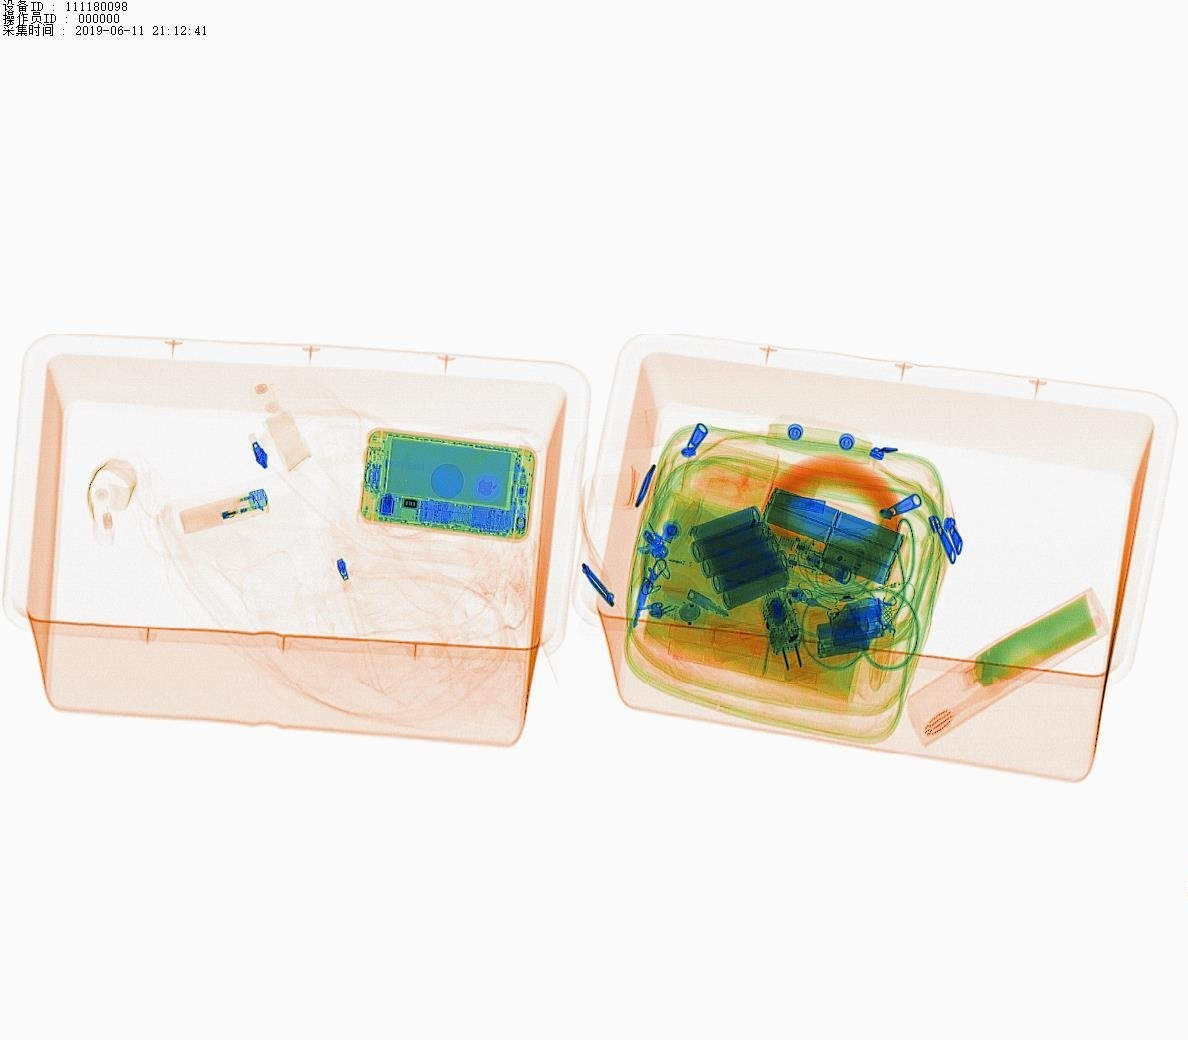NonmetallicFire: (168, 475, 289, 556)
